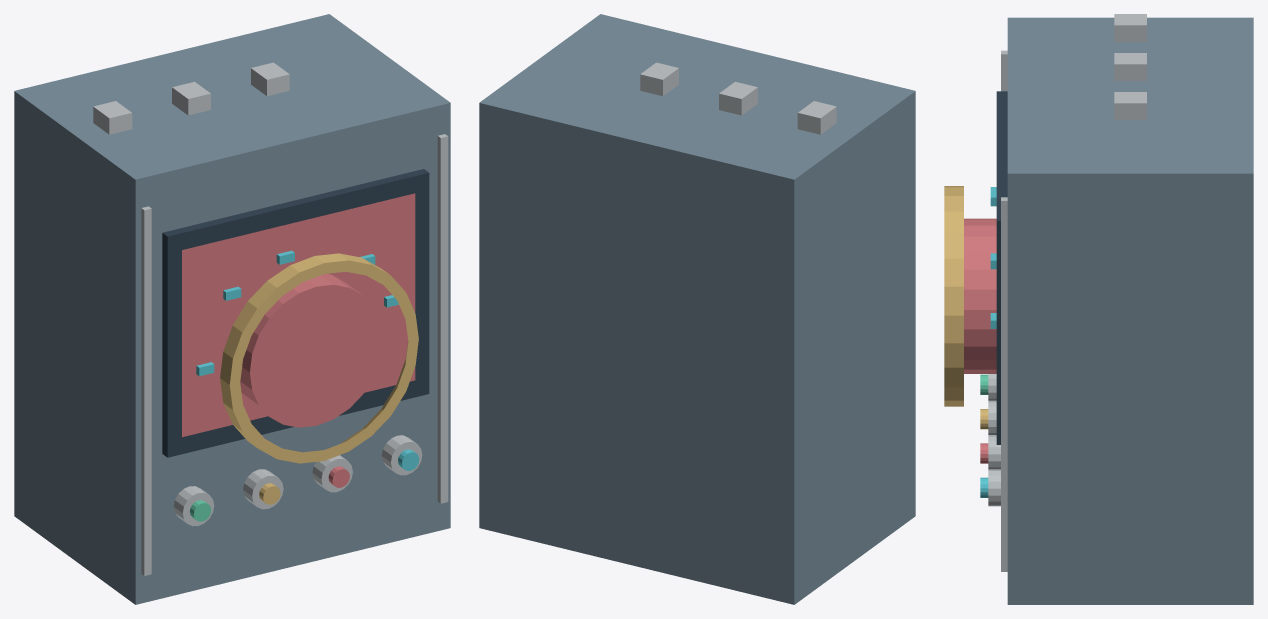
File: 57_L78_EmergencyIsolationSafetyStation.glb
3 renders of one model, left to right at view 1: azimuth 30°, elevation 25°; view 2: azimuth 150°, elevation 25°; view 3: azimuth 270°, elevation 25°, orthographic.
Parts seen in each view (by area): view 1: EmergencyIsolationSafetyStation_Node_0000, EmergencyIsolationSafetyStation_Node_0008, EmergencyIsolationSafetyStation_Node_0028, EmergencyIsolationSafetyStation_Node_0007, EmergencyIsolationSafetyStation_Node_0029, EmergencyIsolationSafetyStation_Node_0006, EmergencyIsolationSafetyStation_Node_0005, EmergencyIsolationSafetyStation_Node_0025, EmergencyIsolationSafetyStation_Node_0026, EmergencyIsolationSafetyStation_Node_0027, EmergencyIsolationSafetyStation_Node_0017, EmergencyIsolationSafetyStation_Node_0019 (+2 smaller); view 2: EmergencyIsolationSafetyStation_Node_0000, EmergencyIsolationSafetyStation_Node_0025, EmergencyIsolationSafetyStation_Node_0026, EmergencyIsolationSafetyStation_Node_0027; view 3: EmergencyIsolationSafetyStation_Node_0000, EmergencyIsolationSafetyStation_Node_0028, EmergencyIsolationSafetyStation_Node_0029, EmergencyIsolationSafetyStation_Node_0006, EmergencyIsolationSafetyStation_Node_0007, EmergencyIsolationSafetyStation_Node_0025, EmergencyIsolationSafetyStation_Node_0026, EmergencyIsolationSafetyStation_Node_0027, EmergencyIsolationSafetyStation_Node_0023.
Boxes of the visible parts, <box> form: EmergencyIsolationSafetyStation_Node_0000: <box>14,14,450,604</box>; EmergencyIsolationSafetyStation_Node_0008: <box>182,193,415,437</box>; EmergencyIsolationSafetyStation_Node_0028: <box>240,274,382,427</box>; EmergencyIsolationSafetyStation_Node_0007: <box>162,169,429,457</box>; EmergencyIsolationSafetyStation_Node_0029: <box>220,253,418,463</box>; EmergencyIsolationSafetyStation_Node_0006: <box>437,134,448,503</box>; EmergencyIsolationSafetyStation_Node_0005: <box>141,206,151,575</box>; EmergencyIsolationSafetyStation_Node_0025: <box>93,101,132,134</box>; EmergencyIsolationSafetyStation_Node_0026: <box>172,81,210,115</box>; EmergencyIsolationSafetyStation_Node_0027: <box>251,62,289,96</box>; EmergencyIsolationSafetyStation_Node_0017: <box>173,486,214,526</box>; EmergencyIsolationSafetyStation_Node_0019: <box>243,469,283,509</box>; EmergencyIsolationSafetyStation_Node_0000: <box>479,14,915,604</box>; EmergencyIsolationSafetyStation_Node_0025: <box>797,101,836,134</box>; EmergencyIsolationSafetyStation_Node_0026: <box>719,81,757,115</box>; EmergencyIsolationSafetyStation_Node_0027: <box>640,62,678,96</box>; EmergencyIsolationSafetyStation_Node_0000: <box>1007,17,1253,604</box>; EmergencyIsolationSafetyStation_Node_0028: <box>964,218,996,373</box>; EmergencyIsolationSafetyStation_Node_0029: <box>944,186,963,406</box>; EmergencyIsolationSafetyStation_Node_0006: <box>1001,197,1007,571</box>; EmergencyIsolationSafetyStation_Node_0007: <box>996,91,1007,444</box>; EmergencyIsolationSafetyStation_Node_0025: <box>1114,14,1146,41</box>; EmergencyIsolationSafetyStation_Node_0026: <box>1114,53,1146,80</box>; EmergencyIsolationSafetyStation_Node_0027: <box>1114,92,1146,119</box>; EmergencyIsolationSafetyStation_Node_0023: <box>988,469,1000,506</box>.
Size of the model in its own units: 0.9 by 1.2 by 0.754.
